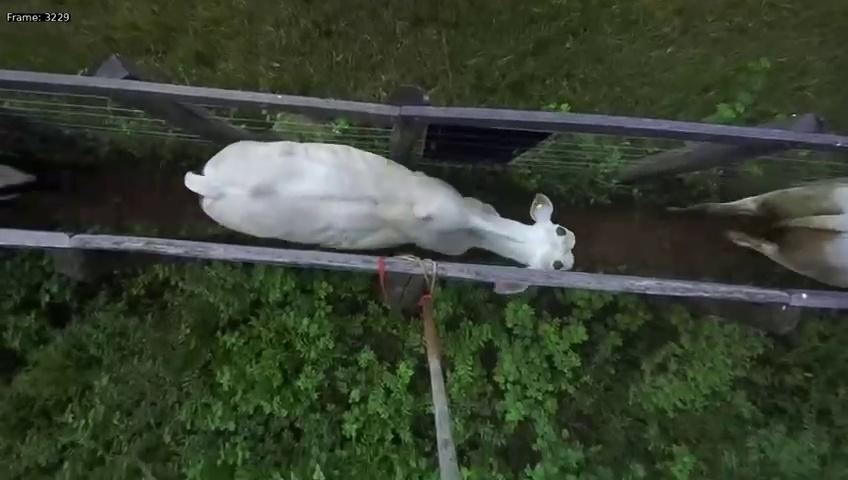cattle: (177, 131, 580, 300)
